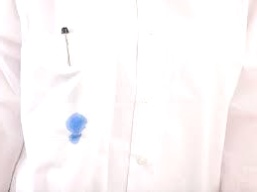ink: (66, 112, 86, 145)
